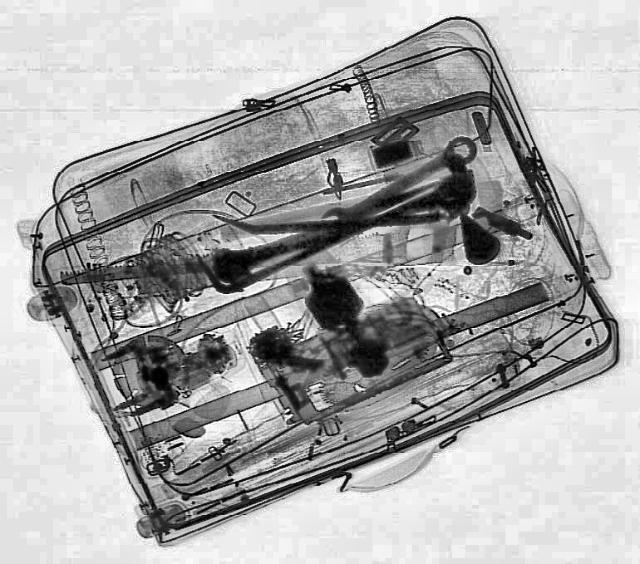Wrench: (315, 132, 483, 238)
